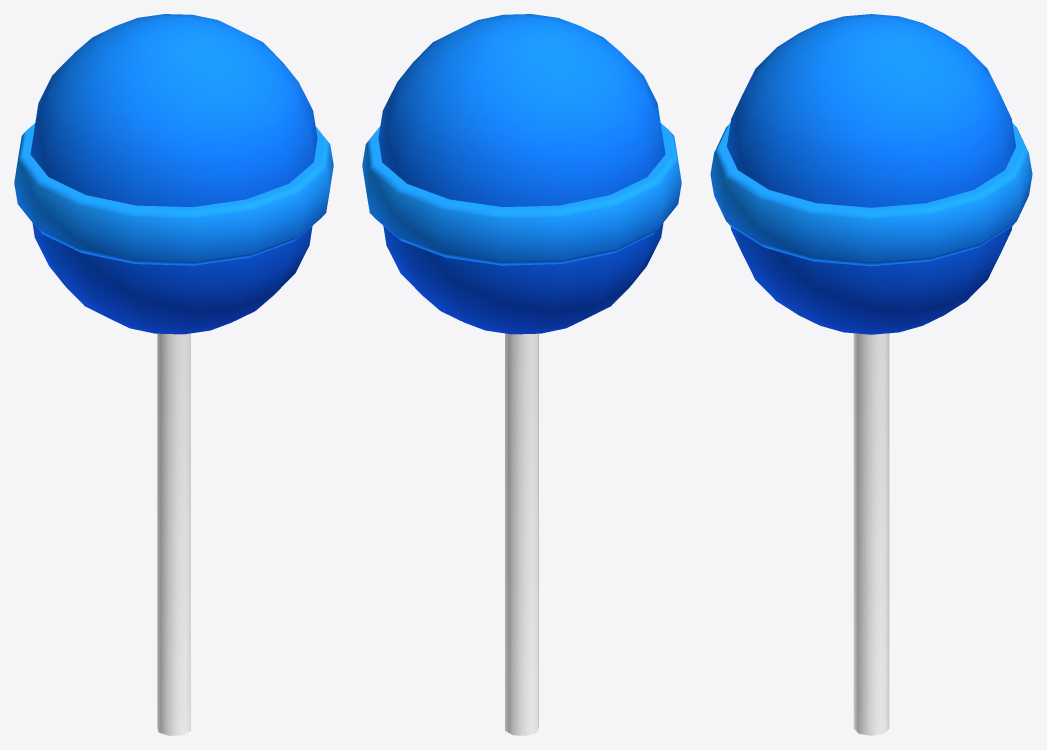
Rendered from Lollipop_05.glb.
3 views of the same model, side by side, from view 1: azimuth 30°, elevation 25°; view 2: azimuth 150°, elevation 25°; view 3: azimuth 270°, elevation 25° (orthographic).
Parts seen in each view (by area): view 1: Lollipop_05; view 2: Lollipop_05; view 3: Lollipop_05.
Boxes of the visible parts, <box> form: Lollipop_05: <box>14,14,333,735</box>; Lollipop_05: <box>362,14,681,735</box>; Lollipop_05: <box>710,14,1032,735</box>.
Bounding box in the file's own units: 2.64 × 6.34 × 2.64.
Materials: 1 (1 with a texture image).
